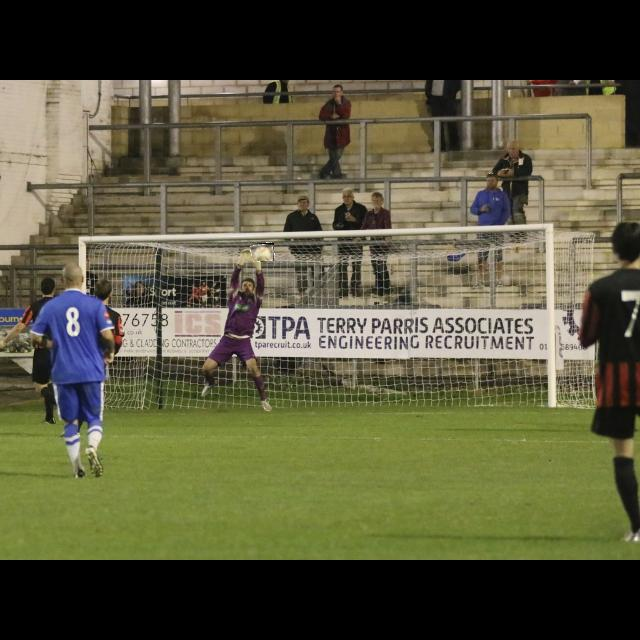Football: (252, 243, 274, 261)
